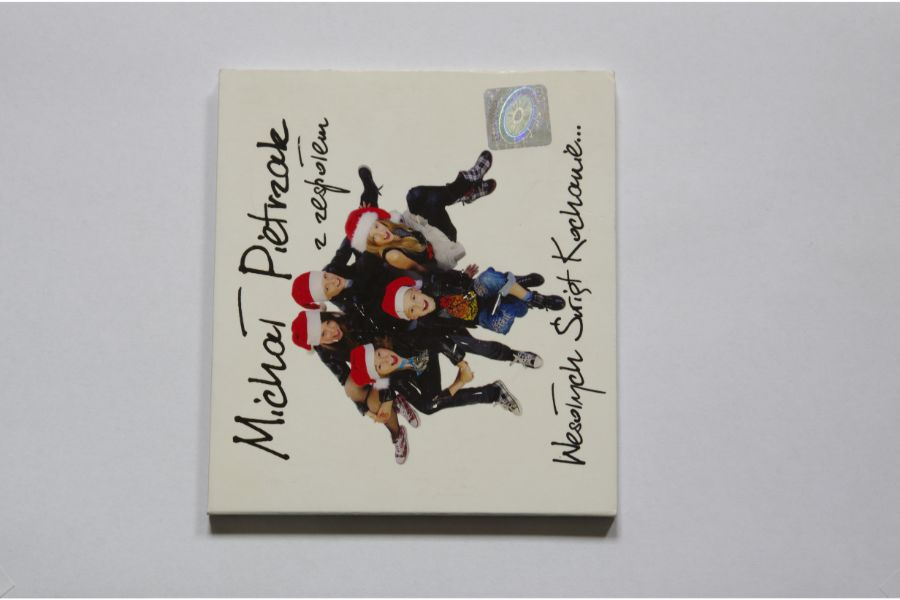album: (206, 68, 620, 527)
